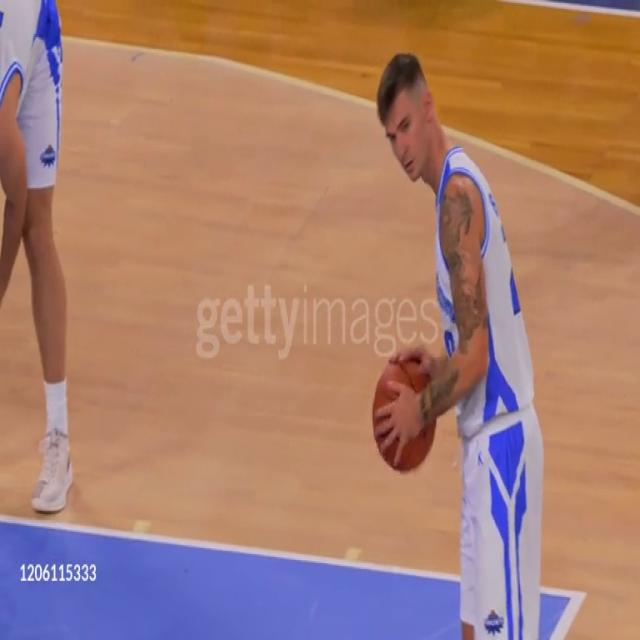ball: (372, 354, 436, 473)
